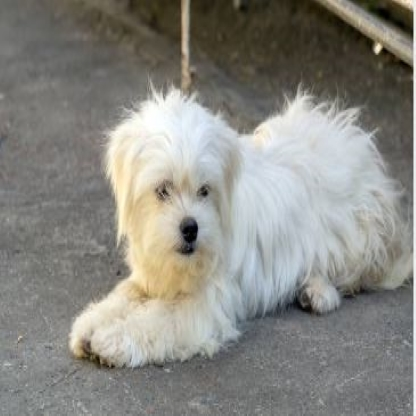maltese: (69, 80, 405, 369)
